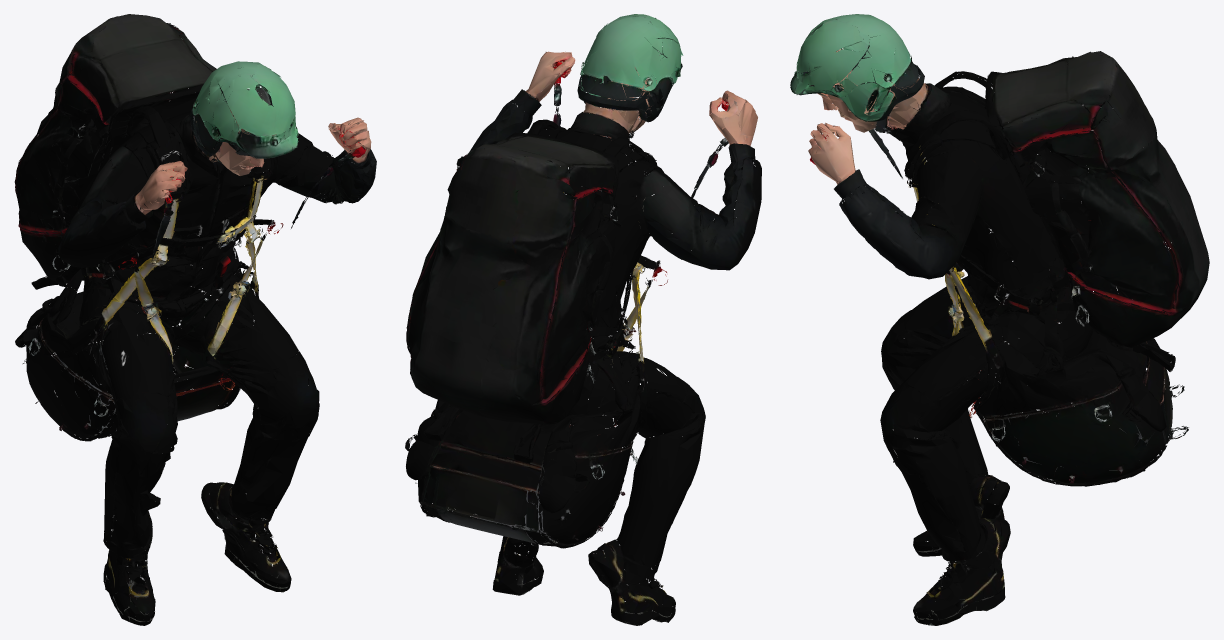
File: person.glb
The picture shows the model from 3 angles, left to right: view 1: azimuth 30°, elevation 25°; view 2: azimuth 150°, elevation 25°; view 3: azimuth 270°, elevation 25°; orthographic projection. The views are drawn at different scales.
Visible parts, largest first — view 1: model; view 2: model; view 3: model.
Part boxes in pixels (left/top/right/bottom): model: left=14, top=14, right=376, bottom=625; model: left=405, top=14, right=761, bottom=625; model: left=790, top=14, right=1209, bottom=625.
Size of the model in its own units: 0.9136 by 1.65 by 1.1.
Materials: 1 (1 with a texture image).
